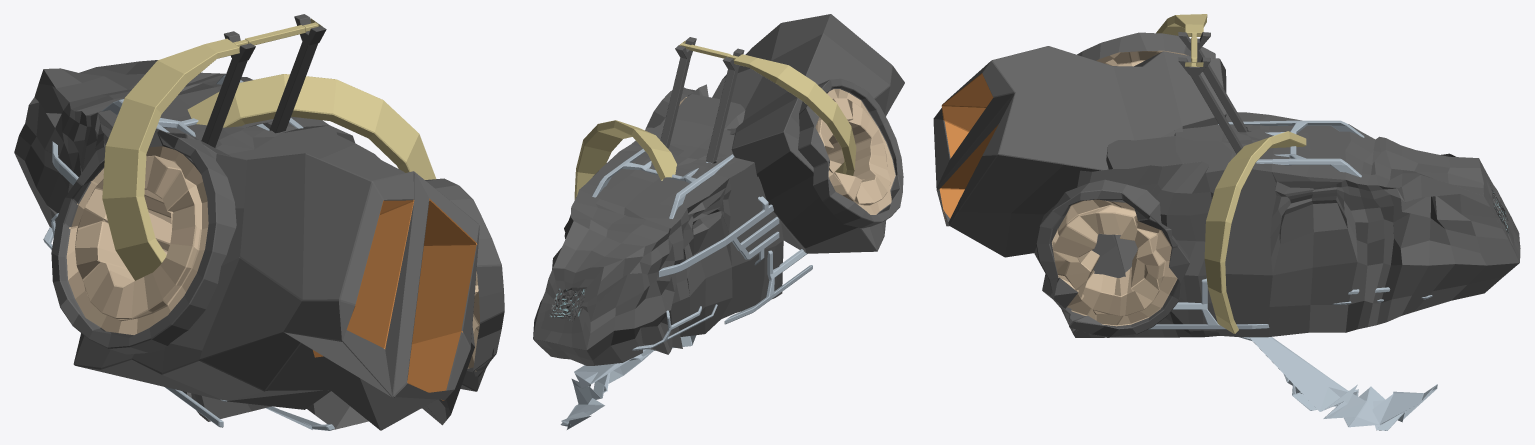
File: fleetship destroyed 2.fbx
3 renders of one model, left to right at view 1: azimuth 30°, elevation 25°; view 2: azimuth 150°, elevation 25°; view 3: azimuth 270°, elevation 25°, orthographic. The views are drawn at different scales.
Parts seen in each view (by area): view 1: Cube.014, Cube.015, Cube.004, Cube.016, Cube.005, Cube.002, Cube.001, Cube.009, Cube.006, Cube.007, Cube; view 2: Cube.004, Cube.014, Cube.015, Cube.016, Cube.005, Cube, Cube.003, Cube.006, Cube.009, Cube.001, Cube.007, Cube.008 (+1 smaller); view 3: Cube.004, Cube.014, Cube.002, Cube, Cube.005, Cube.015, Cube.006, Cube.001, Cube.016, Cube.012, Cube.009.
Part boxes in pixels (left/top/right/bottom): Cube.014: left=73, top=132, right=479, bottom=430; Cube.015: left=51, top=128, right=236, bottom=354; Cube.004: left=14, top=60, right=474, bottom=429; Cube.016: left=102, top=18, right=322, bottom=280; Cube.005: left=187, top=74, right=436, bottom=179; Cube.002: left=425, top=178, right=504, bottom=391; Cube.001: left=269, top=14, right=326, bottom=133; Cube.009: left=201, top=31, right=255, bottom=147; Cube.006: left=101, top=74, right=303, bottom=136; Cube.007: left=165, top=387, right=226, bottom=427; Cube: left=265, top=406, right=334, bottom=430; Cube.004: left=533, top=84, right=783, bottom=365; Cube.014: left=712, top=14, right=904, bottom=253; Cube.015: left=798, top=78, right=903, bottom=228; Cube.016: left=679, top=40, right=856, bottom=175; Cube.005: left=574, top=120, right=676, bottom=199; Cube: left=560, top=335, right=696, bottom=429; Cube.003: left=658, top=196, right=779, bottom=277; Cube.006: left=592, top=149, right=734, bottom=218; Cube.009: left=706, top=48, right=744, bottom=163; Cube.001: left=660, top=37, right=696, bottom=148; Cube.007: left=724, top=249, right=812, bottom=324; Cube.008: left=632, top=304, right=717, bottom=350; Cube.004: left=1061, top=112, right=1520, bottom=337; Cube.014: left=933, top=46, right=1226, bottom=257; Cube.002: left=1034, top=179, right=1189, bottom=337; Cube: left=1239, top=337, right=1437, bottom=430; Cube.005: left=1204, top=131, right=1306, bottom=333; Cube.015: left=1077, top=32, right=1215, bottom=66; Cube.006: left=1218, top=120, right=1364, bottom=177; Cube.001: left=1178, top=57, right=1242, bottom=154; Cube.016: left=1156, top=14, right=1207, bottom=66; Cube.012: left=1148, top=278, right=1269, bottom=329; Cube.009: left=1178, top=32, right=1247, bottom=132.
Bounding box in the file's own units: 49951 × 56035 × 84478.
